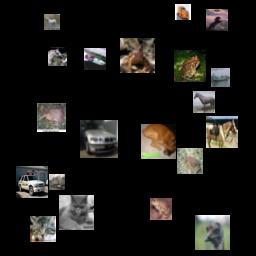automobile: (80, 120, 118, 158), (16, 166, 48, 198)
bird: (195, 215, 230, 250), (37, 103, 66, 132)
cat: (59, 195, 94, 230), (30, 216, 56, 242)
dog: (141, 124, 176, 159)
frog: (120, 38, 155, 73), (174, 50, 206, 82), (177, 148, 203, 174), (150, 198, 172, 220)
ship: (84, 48, 106, 70), (211, 68, 230, 87)
truck: (175, 4, 191, 20), (49, 174, 65, 190)
